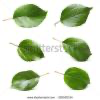Apple leaf: (12, 4, 52, 31), (58, 3, 95, 30), (58, 37, 93, 65), (60, 67, 94, 92), (10, 70, 46, 93)
